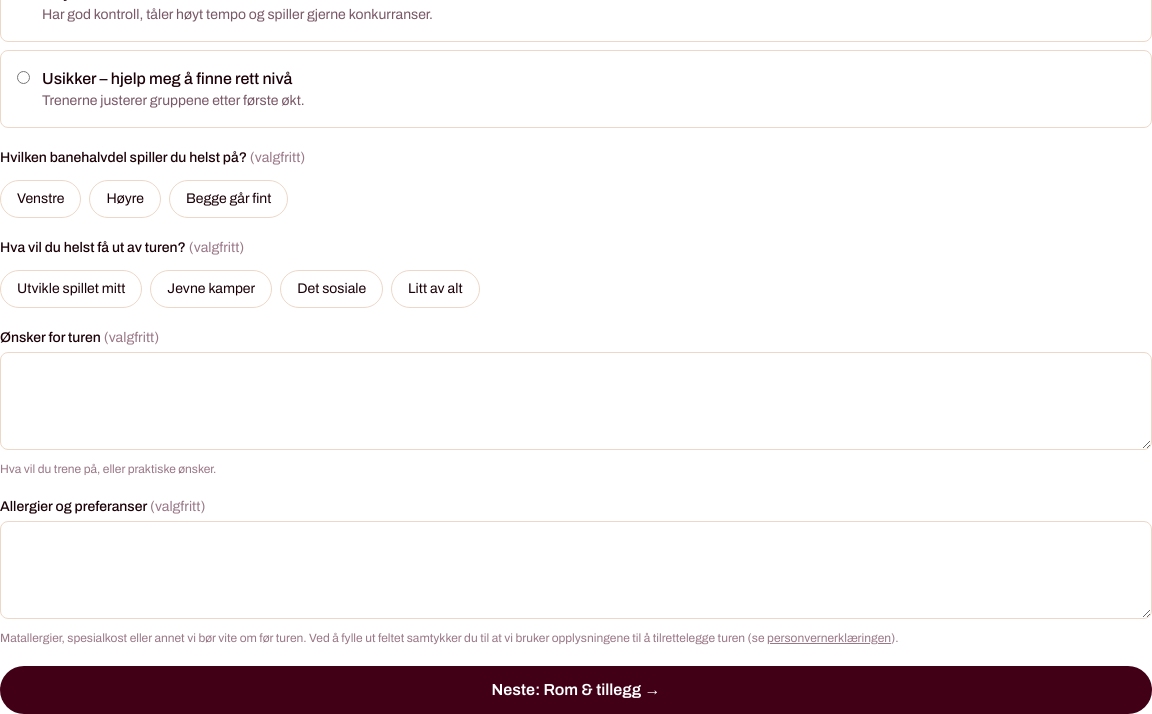
Test: Step1PersonInfo › stopper uten telefon og padelnivå
(page scrolled)
Click the button "Neste: Rom & tillegg →". click: coordinates (576, 690)
box: [0,666,1151,713]
(page scrolled)
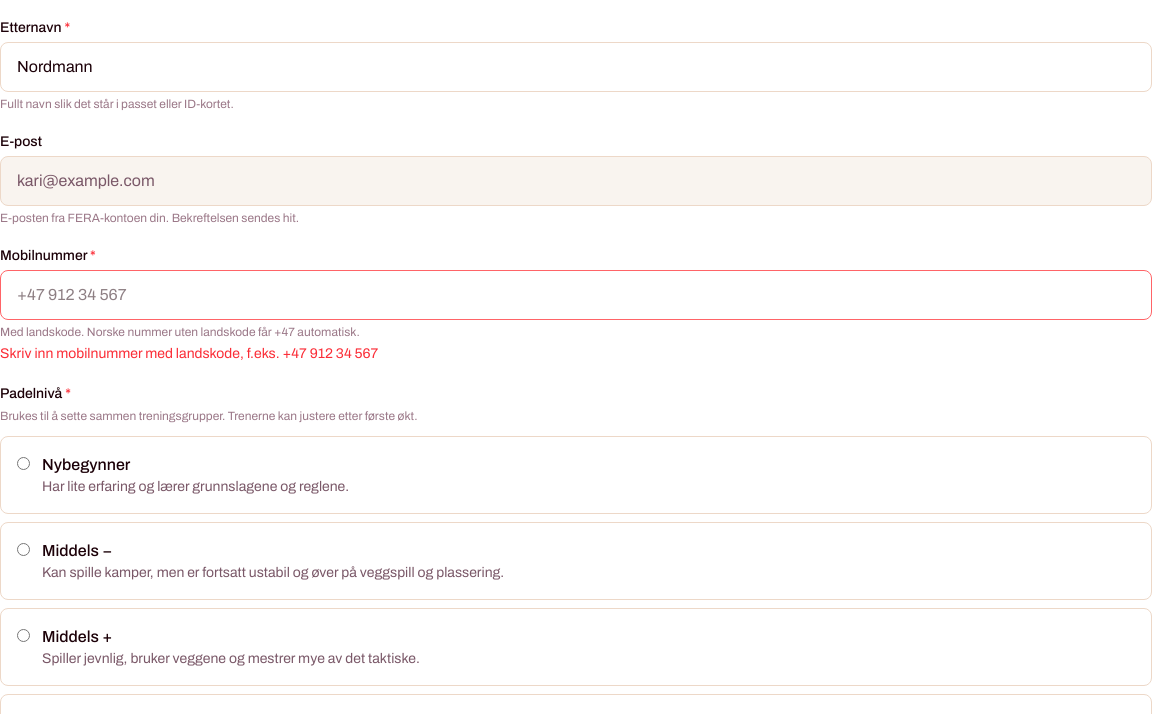
Check: the text "Skriv inn mobilnummer med landskode, f.eks. +47 912 34 567" is shown, box [0,346,378,361]
